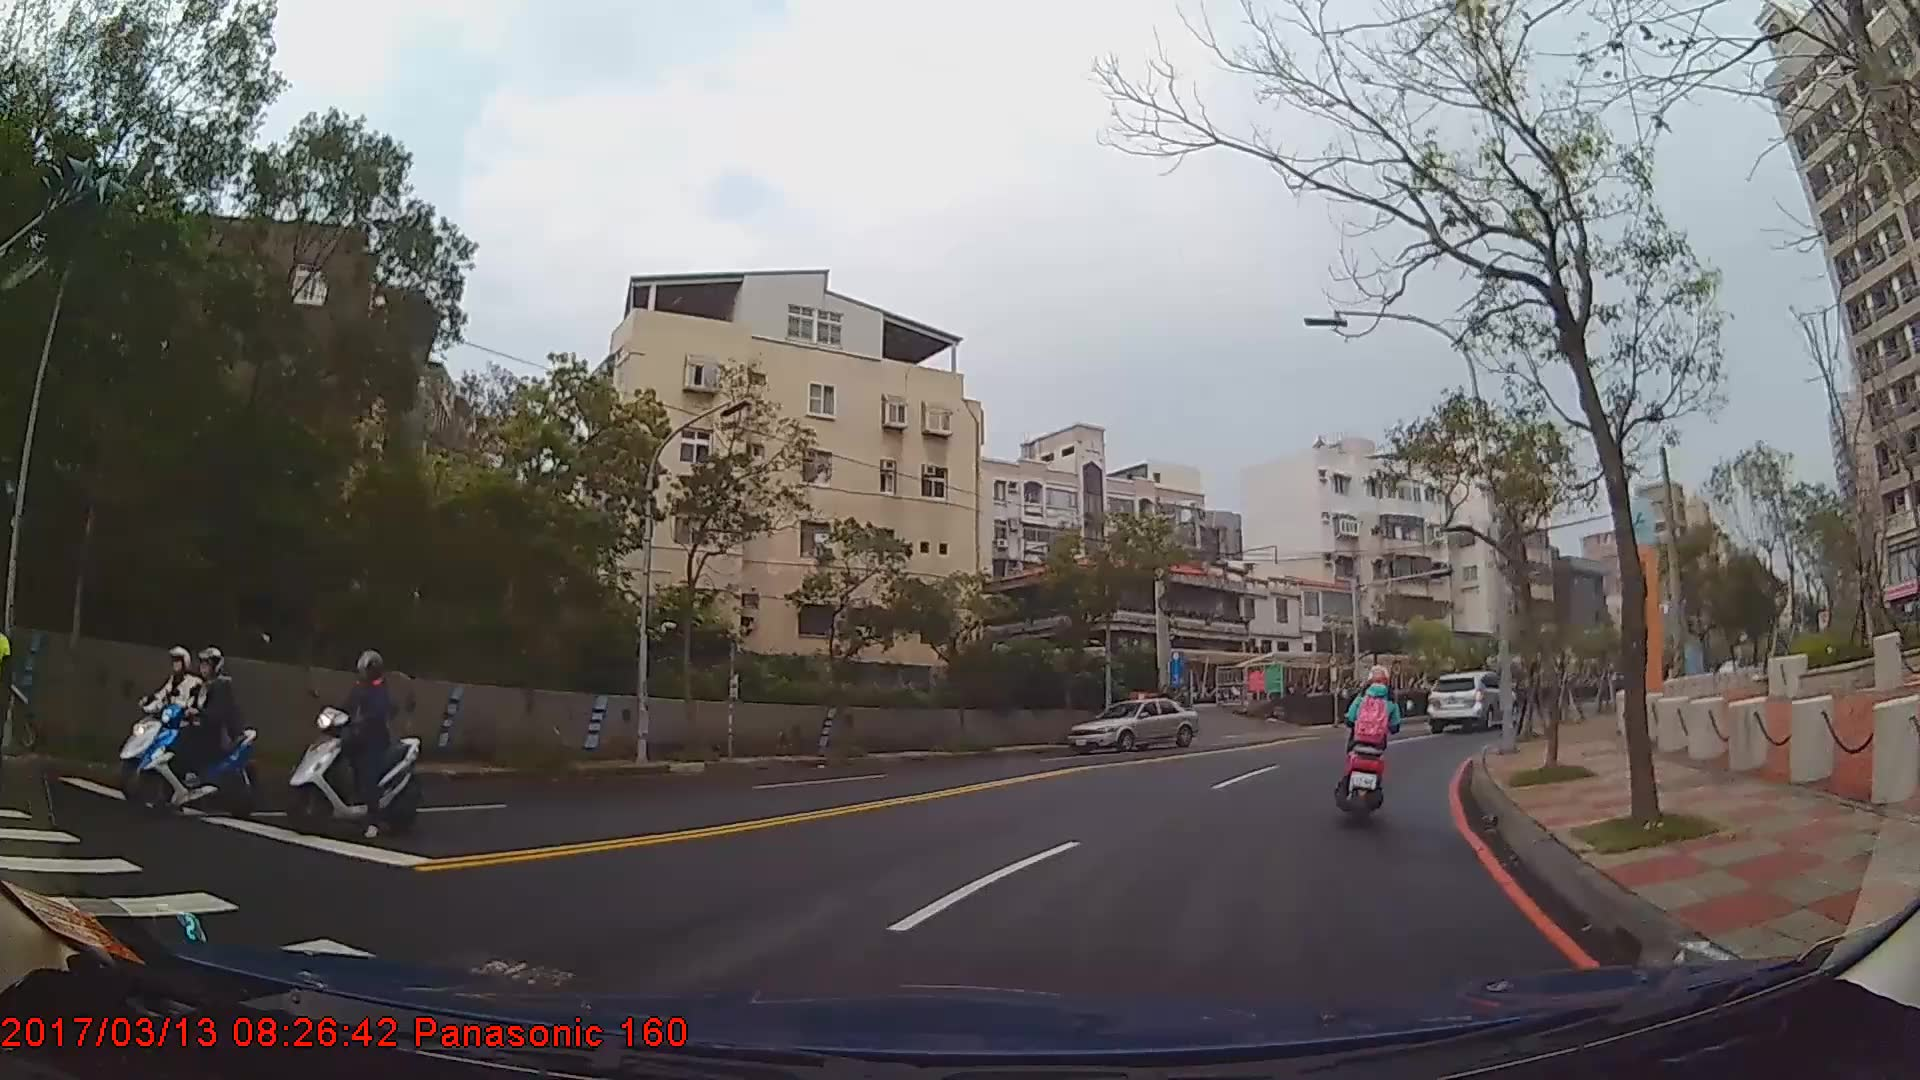rider: (288, 648, 420, 841), (142, 647, 249, 814), (124, 645, 219, 794), (1336, 667, 1401, 812)
vehicle: (1065, 697, 1196, 754), (1427, 669, 1517, 732)
